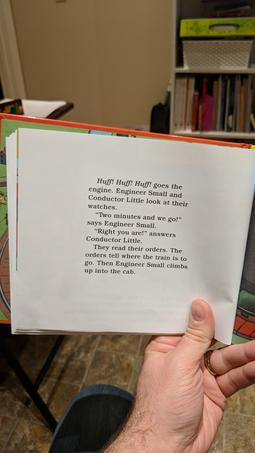text block: (80, 173, 194, 281)
